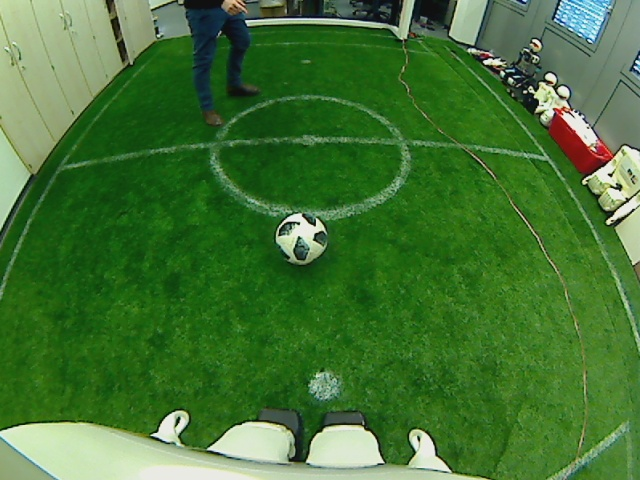ball: (274, 211, 329, 265)
